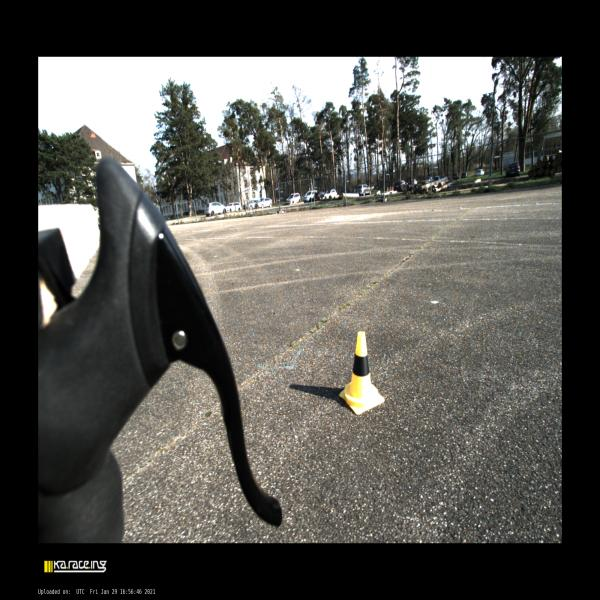yellow_cone: (339, 331, 385, 415)
